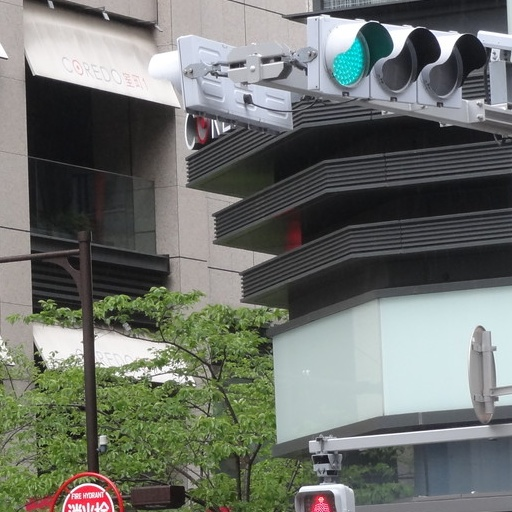Traffic_Signal_Blue: (310, 15, 496, 121)
